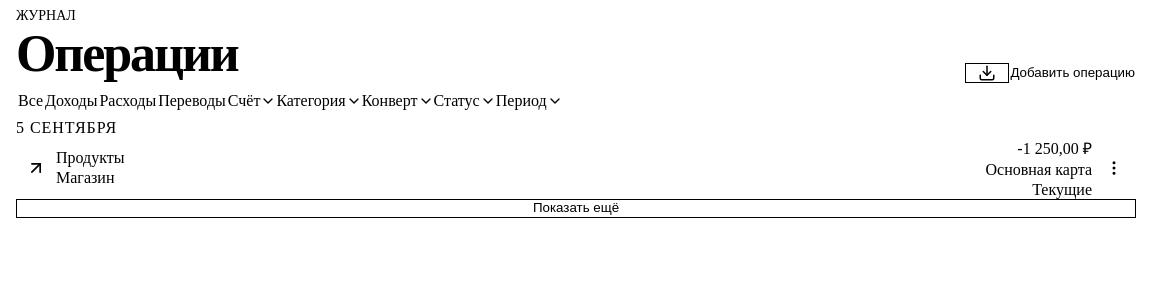
operations page (v2 journal) › lists operations as rows grouped by day and pages with the cursor
This screenshot has width=1153, height=296.
Expected: the heading "5 сентября" is shown, [16,119,117,136]
Expected: the number of buttons with test id "list-row-select" is 1, [16,137,1092,199]
Click the button "Показать ещё" at (576, 208), box [16,199,1136,218]
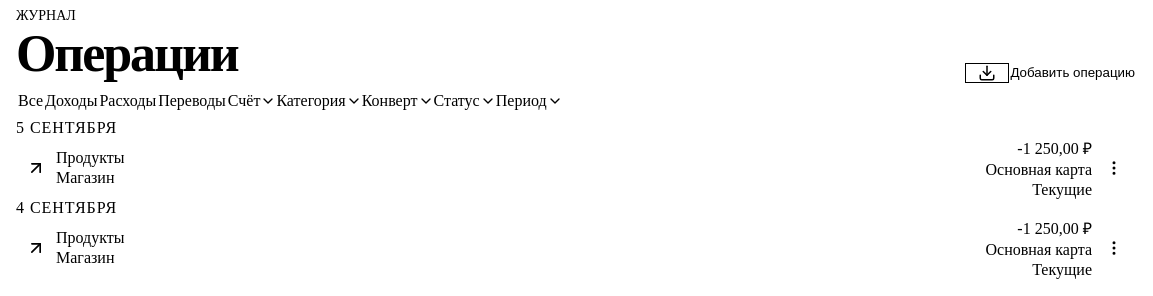
Now the number of buttons with test id "list-row-select" is 2, box [16,137,1092,199]; [16,217,1092,279]
